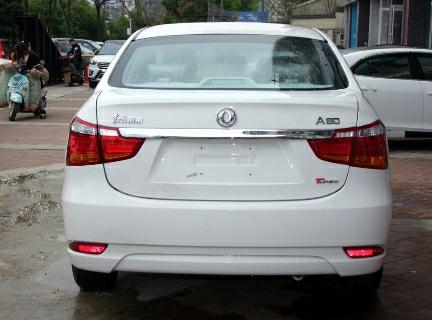car: (56, 18, 397, 298)
